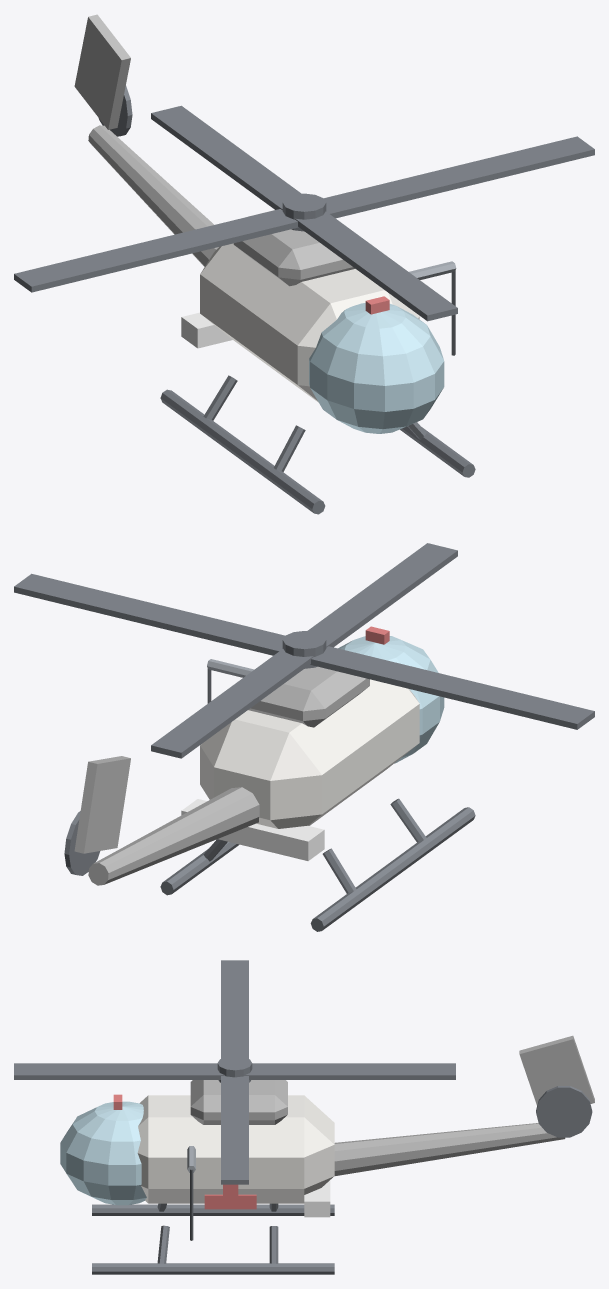
The model's file is rescueheli.glb.
The picture shows the model from 3 angles, top to bottom: view 1: azimuth 30°, elevation 25°; view 2: azimuth 150°, elevation 25°; view 3: azimuth 270°, elevation 25°; orthographic projection. The views are drawn at different scales.
Visible parts, largest first — view 1: main, rotor; view 2: main, rotor; view 3: main, rotor.
Part boxes in pixels (box(x1,y1,x2,y2)): main: box(74, 14, 475, 514); rotor: box(14, 105, 594, 321); main: box(64, 626, 475, 931); rotor: box(14, 543, 594, 758); main: box(60, 1035, 594, 1274); rotor: box(14, 960, 455, 1184).
Bounding box in the file's own units: 1.2 × 0.5294 × 1.34.
